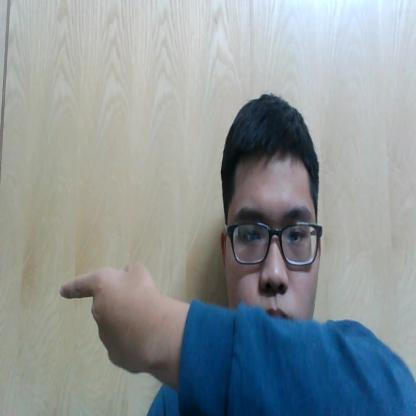right: (55, 251, 174, 399)
